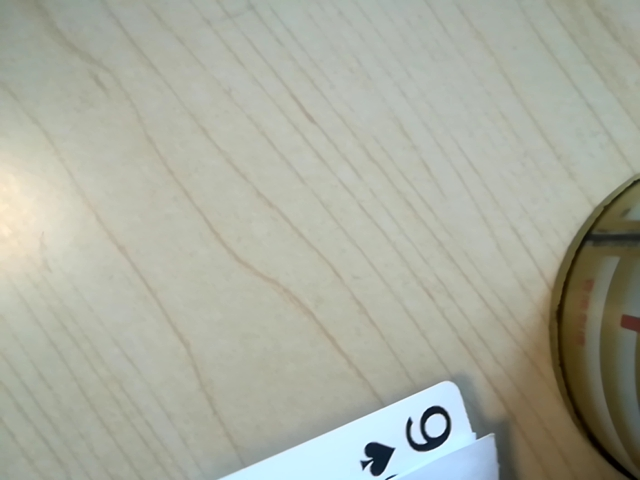ht 9: (360, 396, 472, 472)
